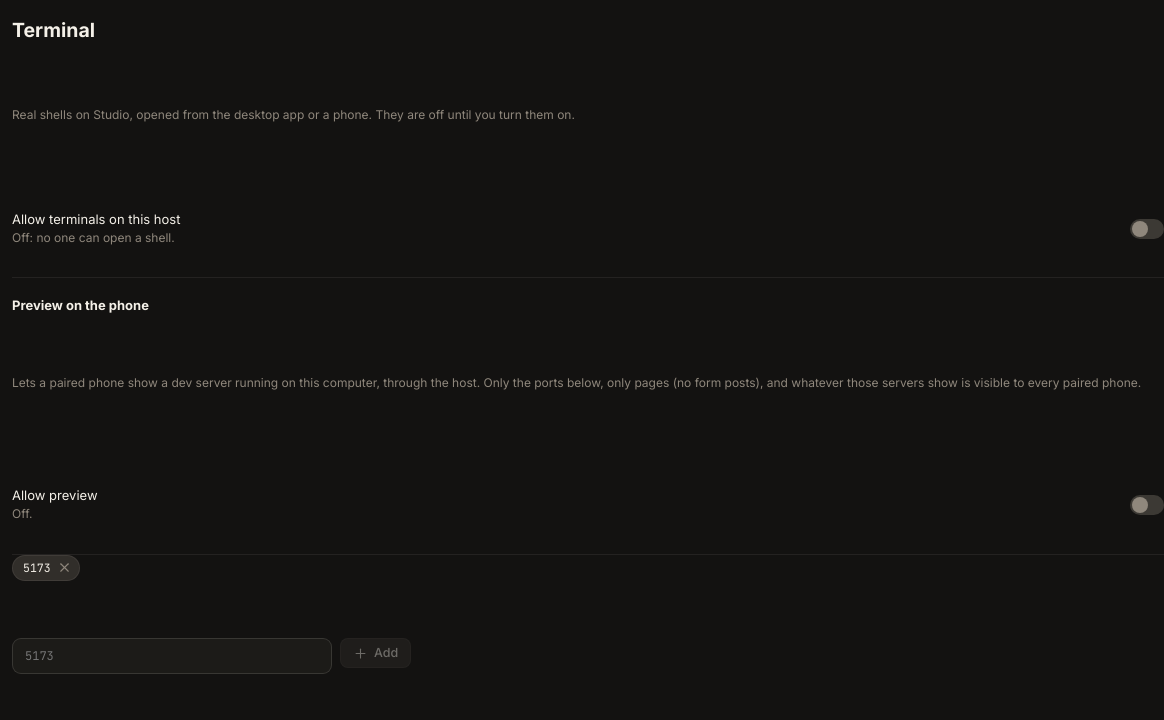
Test: Settings → Terminal › refuses a bad port without asking the host
The width and height of the screenshot is (1164, 720).
Type "99999" into the field named "Add a port".
click(172, 656); type("99999")  # box 12,638 -> 332,674
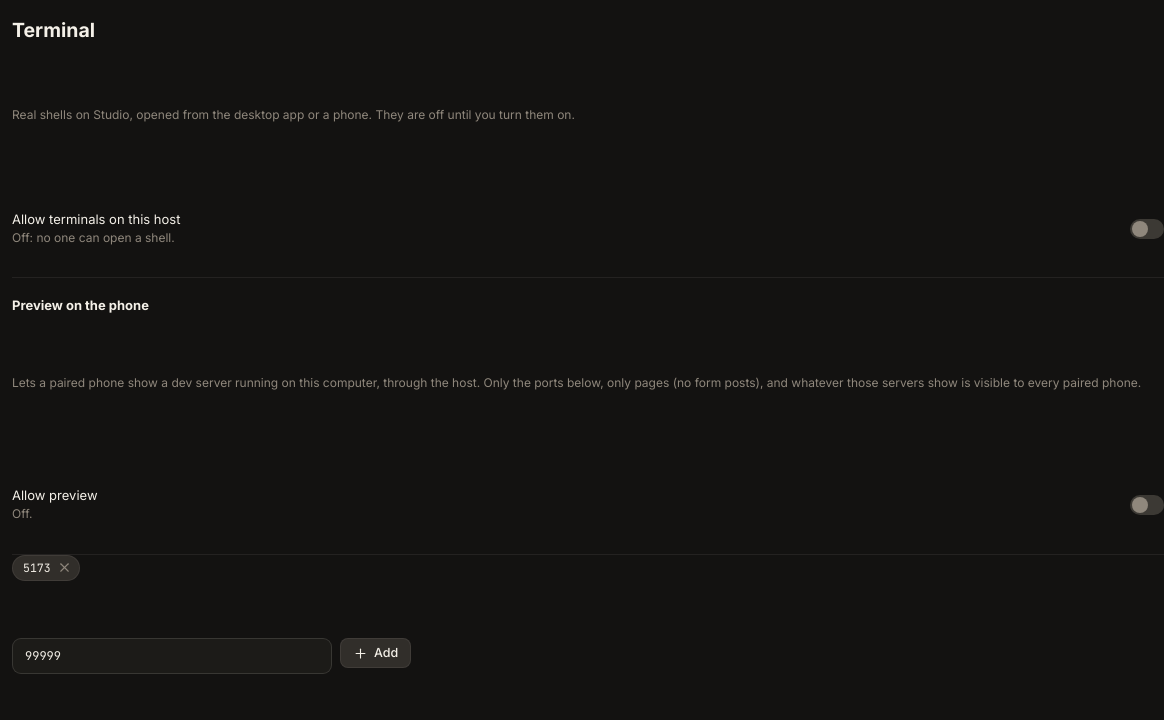
Click the button "Add".
click(376, 653)  # box 340,638 -> 411,668
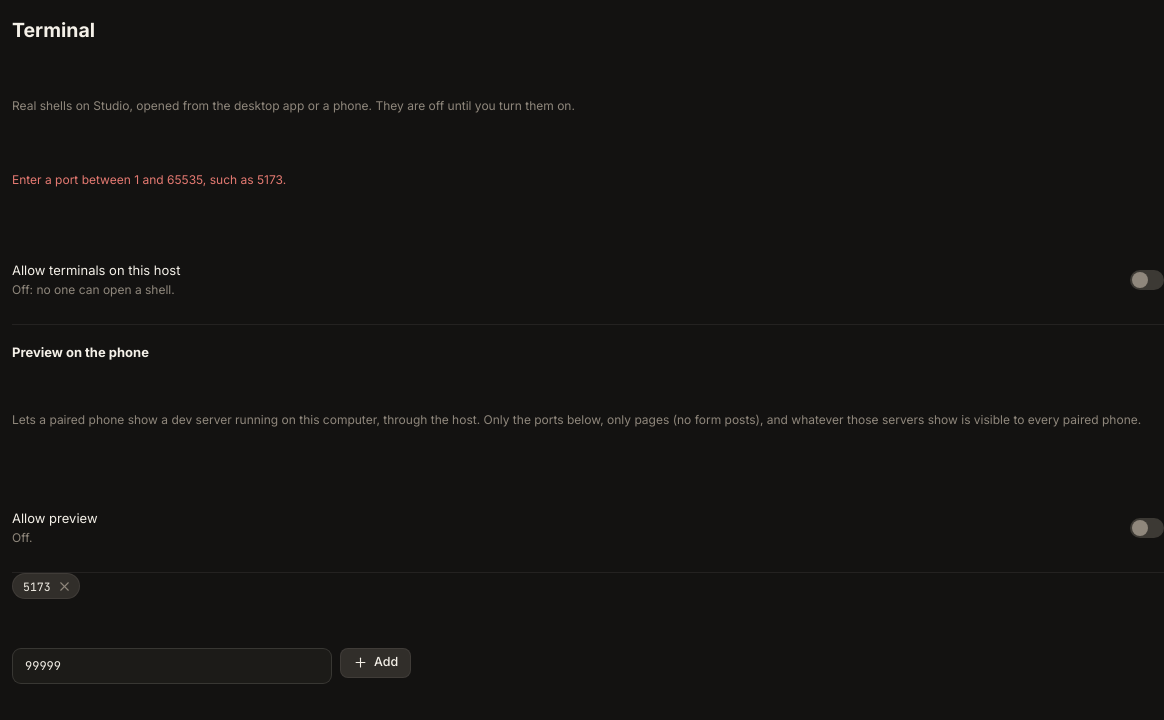
Now the message shows "between 1 and 65535", box 12,172 -> 286,187
